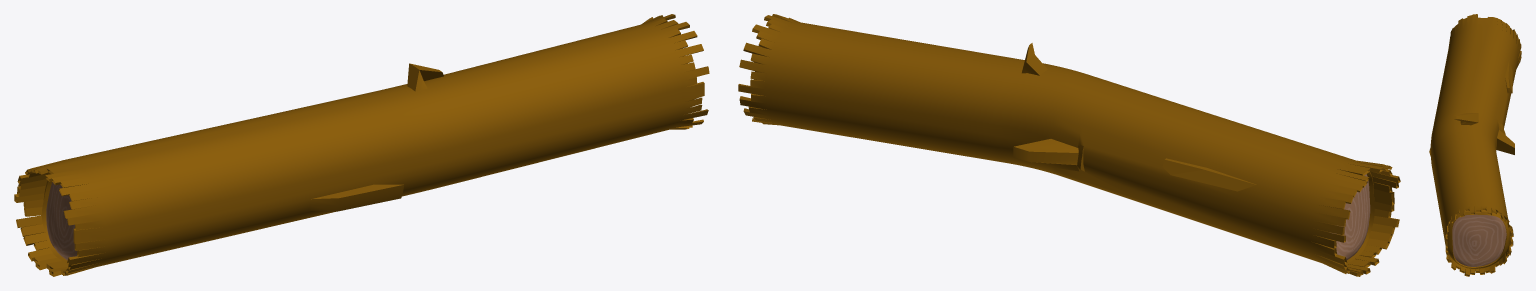
Rendered from S5 Branch.fbx.
3 renders of one model, left to right at view 1: azimuth 30°, elevation 25°; view 2: azimuth 150°, elevation 25°; view 3: azimuth 270°, elevation 25°, orthographic. The views are drawn at different scales.
Visible parts, largest first — view 1: Branch; view 2: Branch; view 3: Branch.
Part boxes in pixels (bbox=[...]): Branch: bbox=[14, 14, 709, 276]; Branch: bbox=[738, 14, 1400, 276]; Branch: bbox=[1429, 14, 1521, 276].
Size of the model in its own units: 3.77 by 0.7183 by 0.7421.
